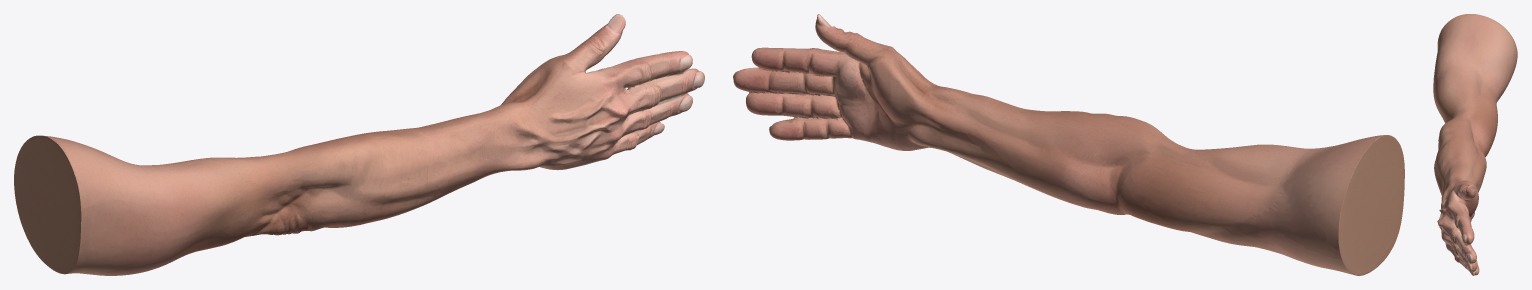
Rendered from arm_textured_rigged.glb.
3 views of the same model, side by side, from view 1: azimuth 30°, elevation 25°; view 2: azimuth 150°, elevation 25°; view 3: azimuth 270°, elevation 25° (orthographic). The views are drawn at different scales.
Bounding box in the file's own units: 1.9 × 0.4082 × 0.3572.
1 material, 1 textured.
